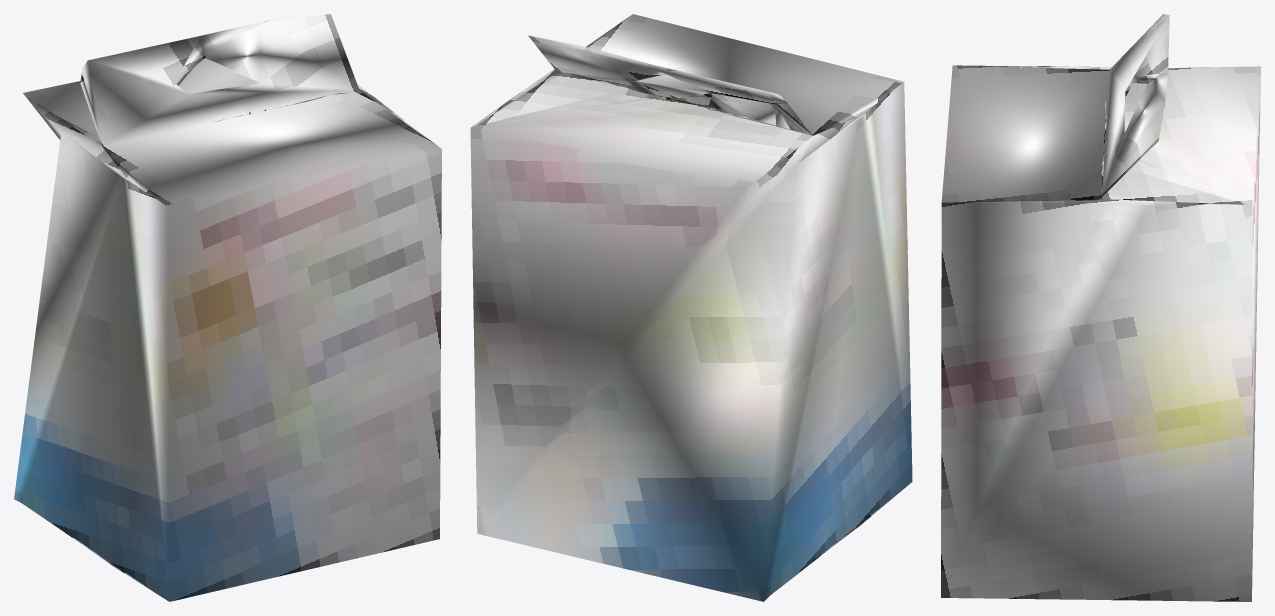
Rendered from Office_Depot_HP_564XL_Remanufactured_Ink_Cartridges_Color_Cyan_Magenta_Yellow_3_count-low.glb.
3 views of the same model, side by side, from view 1: azimuth 30°, elevation 25°; view 2: azimuth 150°, elevation 25°; view 3: azimuth 270°, elevation 25° (orthographic). The views are drawn at different scales.
Parts seen in each view (by area): view 1: Office_Depot_HP_564XL_Remanufactured_Ink_Cartridges_Color_Cy; view 2: Office_Depot_HP_564XL_Remanufactured_Ink_Cartridges_Color_Cy; view 3: Office_Depot_HP_564XL_Remanufactured_Ink_Cartridges_Color_Cy.
Part boxes in pixels (x1,y1,x2,y2): Office_Depot_HP_564XL_Remanufactured_Ink_Cartridges_Color_Cy: (14,14,441,601); Office_Depot_HP_564XL_Remanufactured_Ink_Cartridges_Color_Cy: (470,14,912,601); Office_Depot_HP_564XL_Remanufactured_Ink_Cartridges_Color_Cy: (941,14,1260,601).
Bounding box in the file's own units: 0.0857 × 0.1328 × 0.0825.
Materials: 1 (1 with a texture image).
